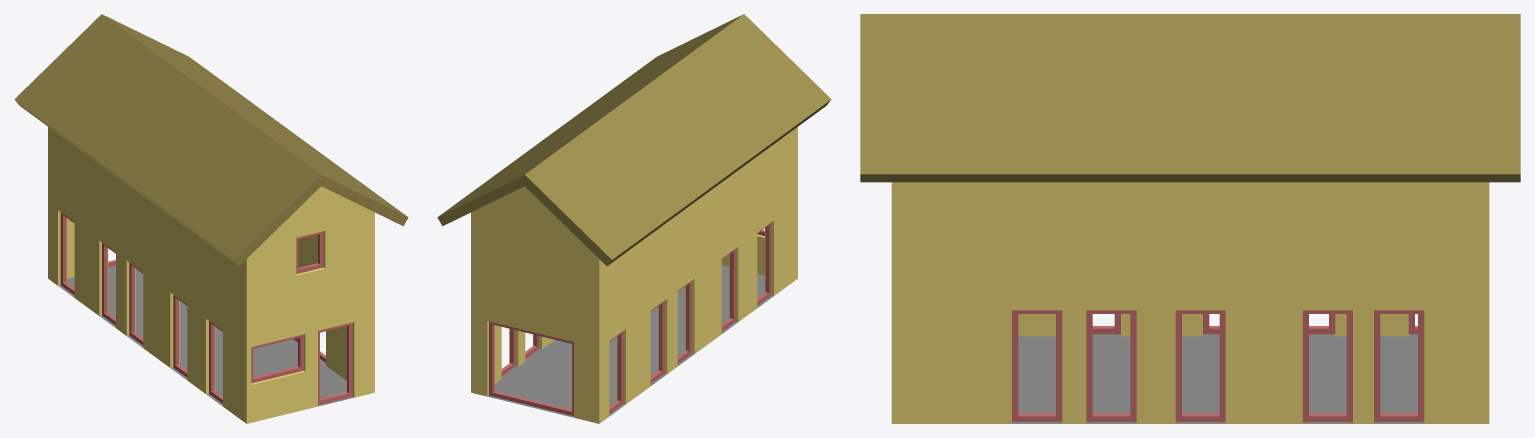
File: result.glb
3 views of the same model, side by side, from view 1: azimuth 30°, elevation 25°; view 2: azimuth 150°, elevation 25°; view 3: azimuth 270°, elevation 25° (orthographic). The views are drawn at different scales.
Parts seen in each view (by area): view 1: 8ae610e2-8367-49dd-b462-519585b59475__undefined, 5e8f8464-aefd-416f-832e-9586110481ff__undefined (×2), 97d851e1-0295-44cb-b59f-a1bf50c5742c__Plane_24, c17eed23-4785-4067-8cf2-88cf55979996__Box, f90d3735-1e0a-4bf1-9be1-9d3bb85419d5__Box_3, e21ac50d-2400-40aa-b030-e051891f4c2c__Box_24, fcfc3d24-f9fe-4c70-8049-77146aea6417__Box_18, 22cffc27-b27f-4c08-b0e4-15d5dd309e4b__Box_15, d12327c5-5b9f-4fb1-89e0-1cbf050184a6__Box_21, 0065726e-8440-4364-b4d0-0b595a0ee19b__Box_12, 470c9140-4628-4a84-97c3-d9ee2640090b__Box_6; view 2: 8ae610e2-8367-49dd-b462-519585b59475__undefined, 5e8f8464-aefd-416f-832e-9586110481ff__undefined (×2), 97d851e1-0295-44cb-b59f-a1bf50c5742c__Plane_24, 04230c0f-aefd-4393-8eb4-05b0030e4312__Box_9, 0065726e-8440-4364-b4d0-0b595a0ee19b__Box_12, e21ac50d-2400-40aa-b030-e051891f4c2c__Box_24, 22cffc27-b27f-4c08-b0e4-15d5dd309e4b__Box_15, fcfc3d24-f9fe-4c70-8049-77146aea6417__Box_18, d12327c5-5b9f-4fb1-89e0-1cbf050184a6__Box_21; view 3: 8ae610e2-8367-49dd-b462-519585b59475__undefined, 5e8f8464-aefd-416f-832e-9586110481ff__undefined, 97d851e1-0295-44cb-b59f-a1bf50c5742c__Plane_24, f073906a-3d2c-4deb-b877-90a0cbecd8a2__Box_42, f2b89547-cc89-429d-bad2-15bbf4ac53e6__Box_45, 6b144c09-5e0b-49bd-a8c4-eedee7fa2600__Box_48, d7023b2d-16e3-4faa-910b-37a565953be0__Box_51, ff6c8bab-5097-403b-9e6b-6177dbe64058__Box_54.
Part boxes in pixels (x1,y1,x2,y2): 8ae610e2-8367-49dd-b462-519585b59475__undefined: (48,127,374,423); 5e8f8464-aefd-416f-832e-9586110481ff__undefined (×2): (14,14,408,265); 97d851e1-0295-44cb-b59f-a1bf50c5742c__Plane_24: (58,265,353,406); c17eed23-4785-4067-8cf2-88cf55979996__Box: (318,322,352,404); f90d3735-1e0a-4bf1-9be1-9d3bb85419d5__Box_3: (251,334,303,383); e21ac50d-2400-40aa-b030-e051891f4c2c__Box_24: (60,212,74,294); fcfc3d24-f9fe-4c70-8049-77146aea6417__Box_18: (129,262,143,345); 22cffc27-b27f-4c08-b0e4-15d5dd309e4b__Box_15: (173,295,187,377); d12327c5-5b9f-4fb1-89e0-1cbf050184a6__Box_21: (102,242,115,325); 0065726e-8440-4364-b4d0-0b595a0ee19b__Box_12: (209,321,222,403); 470c9140-4628-4a84-97c3-d9ee2640090b__Box_6: (296,231,323,273); 8ae610e2-8367-49dd-b462-519585b59475__undefined: (471,127,797,423); 5e8f8464-aefd-416f-832e-9586110481ff__undefined (×2): (437,14,831,265); 97d851e1-0295-44cb-b59f-a1bf50c5742c__Plane_24: (488,265,773,417); 04230c0f-aefd-4393-8eb4-05b0030e4312__Box_9: (489,321,573,416); 0065726e-8440-4364-b4d0-0b595a0ee19b__Box_12: (757,223,771,305); e21ac50d-2400-40aa-b030-e051891f4c2c__Box_24: (609,331,623,413); 22cffc27-b27f-4c08-b0e4-15d5dd309e4b__Box_15: (721,249,735,331); fcfc3d24-f9fe-4c70-8049-77146aea6417__Box_18: (677,281,691,363); d12327c5-5b9f-4fb1-89e0-1cbf050184a6__Box_21: (650,301,664,383); 8ae610e2-8367-49dd-b462-519585b59475__undefined: (891,182,1489,423); 5e8f8464-aefd-416f-832e-9586110481ff__undefined: (860,14,1520,182); 97d851e1-0295-44cb-b59f-a1bf50c5742c__Plane_24: (1012,334,1424,423); f073906a-3d2c-4deb-b877-90a0cbecd8a2__Box_42: (1012,310,1062,421); f2b89547-cc89-429d-bad2-15bbf4ac53e6__Box_45: (1086,310,1136,421); 6b144c09-5e0b-49bd-a8c4-eedee7fa2600__Box_48: (1175,310,1225,421); d7023b2d-16e3-4faa-910b-37a565953be0__Box_51: (1302,310,1352,421); ff6c8bab-5097-403b-9e6b-6177dbe64058__Box_54: (1374,310,1424,421).
Size of the model in its own units: 484 by 638 by 1052.
